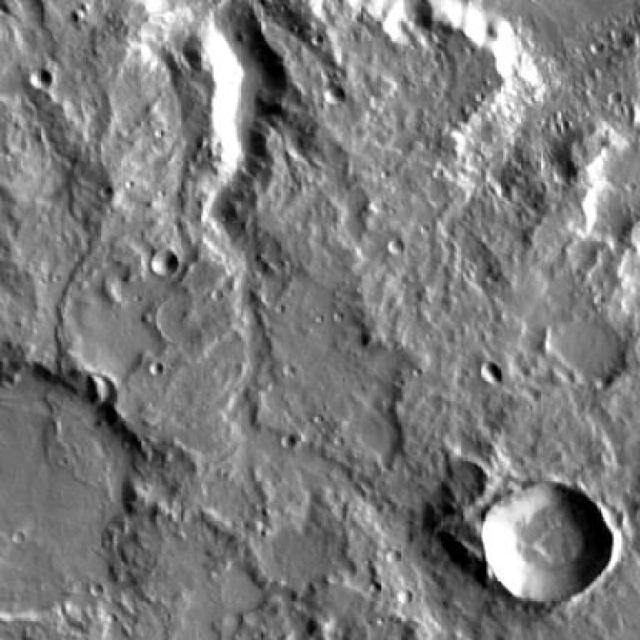crater: (482, 481, 613, 604), (152, 252, 178, 276), (29, 70, 51, 90), (482, 362, 502, 382), (324, 84, 344, 102)
